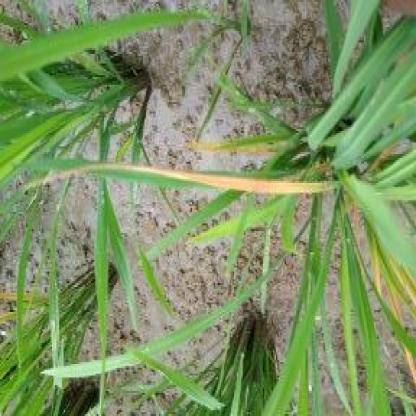Tungro: (95, 165, 336, 198)
